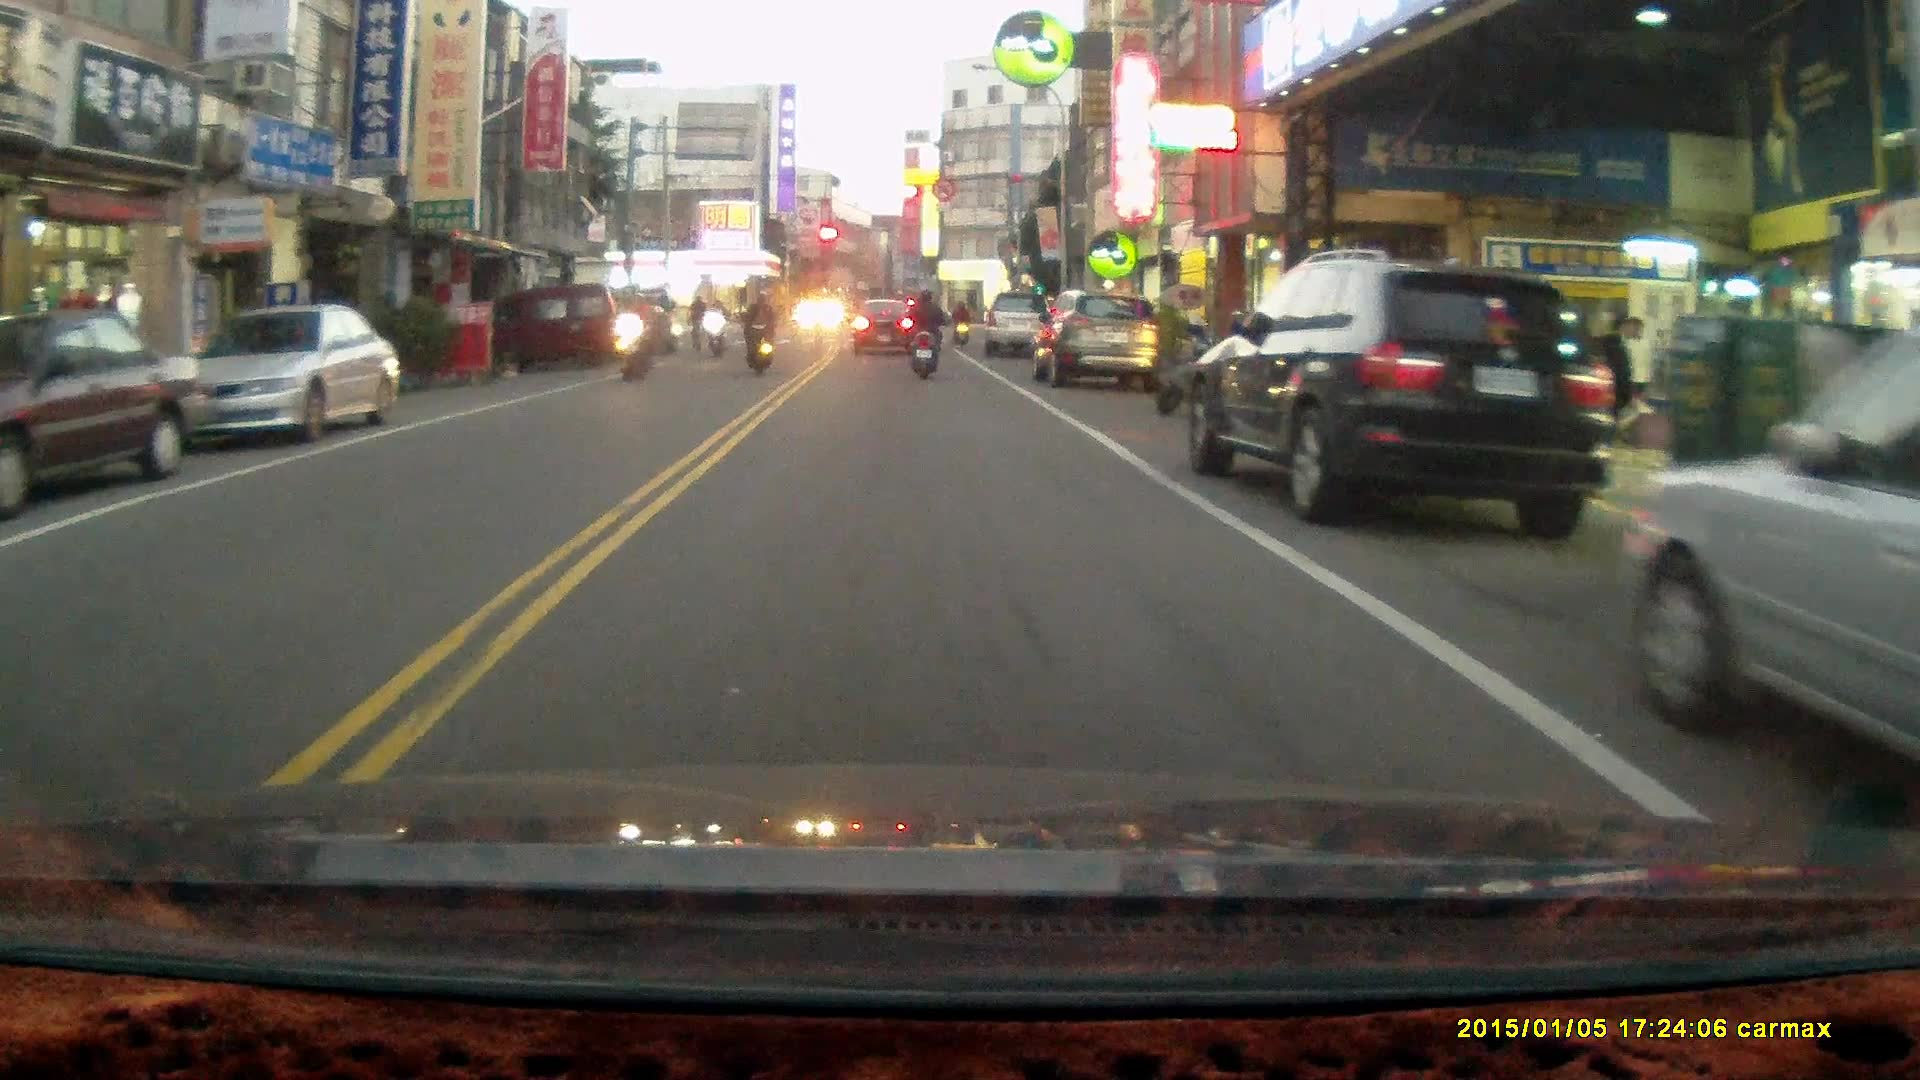pedestrian: (1589, 307, 1636, 500), (1612, 316, 1651, 449)
rider: (903, 286, 944, 379), (615, 285, 654, 380), (741, 288, 775, 377), (702, 295, 727, 357), (688, 291, 709, 355), (947, 295, 968, 344)
vehicle: (1612, 331, 1920, 797), (1185, 252, 1615, 540), (6, 306, 215, 508), (160, 303, 410, 446), (1030, 292, 1162, 389), (518, 283, 633, 365), (976, 290, 1063, 363)
